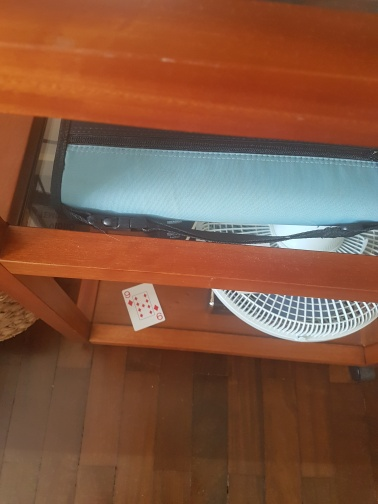nine: (120, 282, 165, 331)
